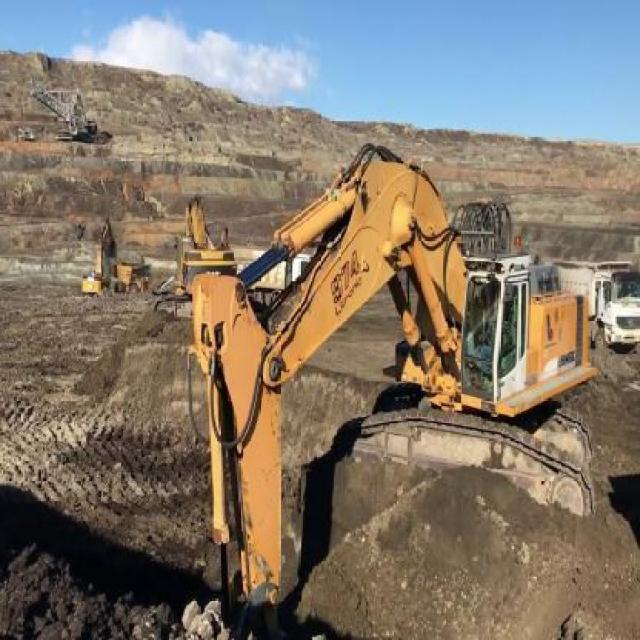Dump Truck: (567, 253, 636, 349), (115, 262, 151, 292)
Excavator: (188, 147, 598, 639), (156, 195, 233, 314), (80, 222, 114, 296)
